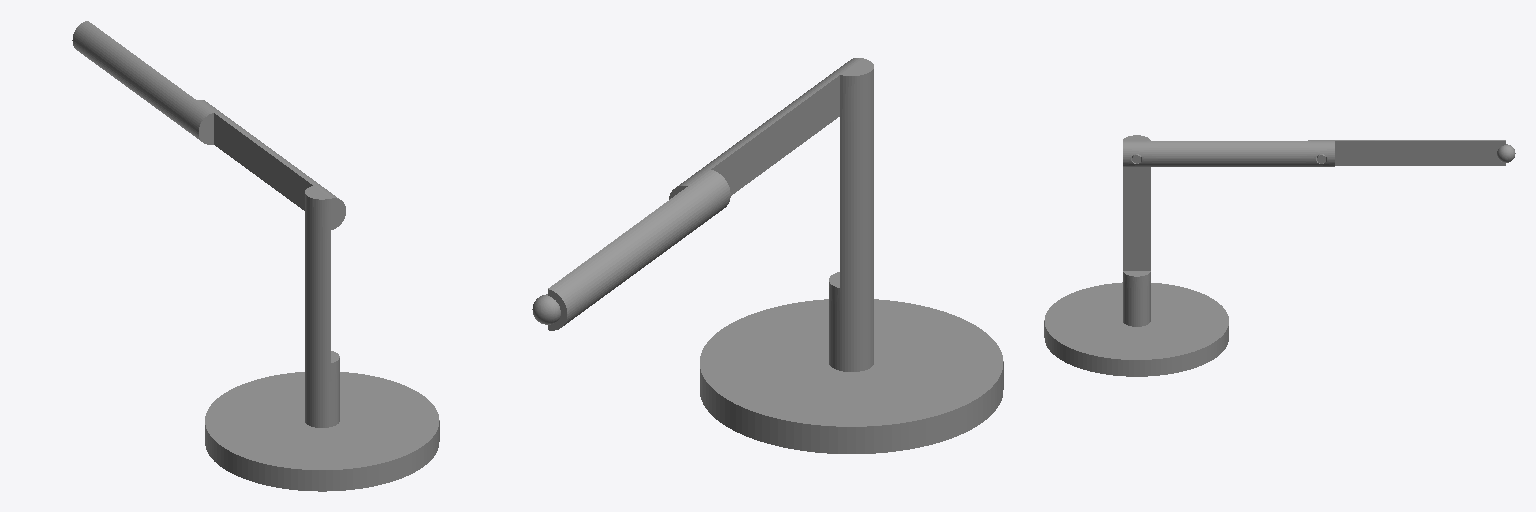
The robot description file, URDF, robot "moveit_sample":
<?xml version="1.0" ?>
<robot name="moveit_sample">
    <material name="silver_default">
        <color rgba="0.700 0.700 0.700 1.000" />
    </material>
    <material name="_">
        <color rgba="0.6274509803921569 0.6274509803921569 0.6274509803921569 1.0" />
    </material>
    <transmission name="rev1_tran">
        <type>transmission_interface/SimpleTransmission</type>
        <joint name="rev1">
            <hardwareInterface>hardware_interface/EffortJointInterface</hardwareInterface>
        </joint>
        <actuator name="rev1_actr">
            <hardwareInterface>hardware_interface/EffortJointInterface</hardwareInterface>
            <mechanicalReduction>1</mechanicalReduction>
        </actuator>
    </transmission>
    <transmission name="rev2_tran">
        <type>transmission_interface/SimpleTransmission</type>
        <joint name="rev2">
            <hardwareInterface>hardware_interface/EffortJointInterface</hardwareInterface>
        </joint>
        <actuator name="rev2_actr">
            <hardwareInterface>hardware_interface/EffortJointInterface</hardwareInterface>
            <mechanicalReduction>1</mechanicalReduction>
        </actuator>
    </transmission>
    <transmission name="rev3_tran">
        <type>transmission_interface/SimpleTransmission</type>
        <joint name="rev3">
            <hardwareInterface>hardware_interface/EffortJointInterface</hardwareInterface>
        </joint>
        <actuator name="rev3_actr">
            <hardwareInterface>hardware_interface/EffortJointInterface</hardwareInterface>
            <mechanicalReduction>1</mechanicalReduction>
        </actuator>
    </transmission>
    <transmission name="d_rev1_tran">
        <type>transmission_interface/SimpleTransmission</type>
        <joint name="d_rev1">
            <hardwareInterface>hardware_interface/EffortJointInterface</hardwareInterface>
        </joint>
        <actuator name="d_rev1_actr">
            <hardwareInterface>hardware_interface/EffortJointInterface</hardwareInterface>
            <mechanicalReduction>1</mechanicalReduction>
        </actuator>
    </transmission>
    <transmission name="d_rev2_tran">
        <type>transmission_interface/SimpleTransmission</type>
        <joint name="d_rev2">
            <hardwareInterface>hardware_interface/EffortJointInterface</hardwareInterface>
        </joint>
        <actuator name="d_rev2_actr">
            <hardwareInterface>hardware_interface/EffortJointInterface</hardwareInterface>
            <mechanicalReduction>1</mechanicalReduction>
        </actuator>
    </transmission>
    <transmission name="d_rev3_tran">
        <type>transmission_interface/SimpleTransmission</type>
        <joint name="d_rev3">
            <hardwareInterface>hardware_interface/EffortJointInterface</hardwareInterface>
        </joint>
        <actuator name="d_rev3_actr">
            <hardwareInterface>hardware_interface/EffortJointInterface</hardwareInterface>
            <mechanicalReduction>1</mechanicalReduction>
        </actuator>
    </transmission>
    <gazebo>
        <plugin filename="libgazebo_ros_control.so" name="control" />
        <plugin name="gazebo_ros_control">
            <robotNamespace>/</robotNamespace>
        </plugin>
    </gazebo>
    <gazebo reference="base_link">
        <material>Gazebo/Silver</material>
        <mu1>0.2</mu1>
        <mu2>0.2</mu2>
        <selfCollide>true</selfCollide>
        <gravity>true</gravity>
    </gazebo>
    <gazebo reference="part1_1">
        <material>Gazebo/Silver</material>
        <mu1>0.2</mu1>
        <mu2>0.2</mu2>
        <selfCollide>true</selfCollide>
    </gazebo>
    <gazebo reference="part2_1">
        <material>Gazebo/Silver</material>
        <mu1>0.2</mu1>
        <mu2>0.2</mu2>
        <selfCollide>true</selfCollide>
    </gazebo>
    <gazebo reference="part3_1">
        <material>Gazebo/Silver</material>
        <mu1>0.2</mu1>
        <mu2>0.2</mu2>
        <selfCollide>true</selfCollide>
    </gazebo>
    <gazebo reference="d_part1_1">
        <material>Gazebo/Silver</material>
        <mu1>0.2</mu1>
        <mu2>0.2</mu2>
        <selfCollide>true</selfCollide>
    </gazebo>
    <gazebo reference="d_part2_1">
        <material>Gazebo/Silver</material>
        <mu1>0.2</mu1>
        <mu2>0.2</mu2>
        <selfCollide>true</selfCollide>
    </gazebo>
    <gazebo reference="d_part3_1">
        <material>Gazebo/Silver</material>
        <mu1>0.2</mu1>
        <mu2>0.2</mu2>
        <selfCollide>true</selfCollide>
    </gazebo>
    <link name="dummy" />
    <link name="base_link">
        <inertial>
            <origin rpy="0 0 0" xyz="-7.237528875152536e-18 -1.447505775030507e-17 0.005" />
            <mass value="0.6165375582669969" />
            <inertia ixx="0.00039" ixy="-0.0" ixz="0.0" iyy="0.00039" iyz="-0.0" izz="0.000771" />
        </inertial>
        <visual>
            <origin rpy="0 0 0" xyz="0 0 0" />
            <geometry>
                <mesh filename="package://moveit_sample_description/meshes/base_link.stl" scale="0.001 0.001 0.001" />
            </geometry>
            <material name="_" />
        </visual>
        <collision>
            <origin rpy="0 0 0" xyz="0 0 0" />
            <geometry>
                <mesh filename="package://moveit_sample_description/meshes/base_link.stl" scale="0.001 0.001 0.001" />
            </geometry>
        </collision>
    </link>
    <link name="part1_1">
        <inertial>
            <origin rpy="0 0 0" xyz="-0.0017277137374306876 6.723447632535409e-13 0.04595059880172599" />
            <mass value="0.09652666146617676" />
            <inertia ixx="0.000103" ixy="-0.0" ixz="4e-06" iyy="0.000102" iyz="-0.0" izz="2e-06" />
        </inertial>
        <visual>
            <origin rpy="0 0 0" xyz="-0.0 -0.0 -0.01" />
            <geometry>
                <mesh filename="package://moveit_sample_description/meshes/part1_1.stl" scale="0.001 0.001 0.001" />
            </geometry>
            <material name="_" />
        </visual>
        <collision>
            <origin rpy="0 0 0" xyz="-0.0 -0.0 -0.01" />
            <geometry>
                <mesh filename="package://moveit_sample_description/meshes/part1_1.stl" scale="0.001 0.001 0.001" />
            </geometry>
        </collision>
    </link>
    <link name="part2_1">
        <inertial>
            <origin rpy="0 0 0" xyz="0.0031621405528323497 0.050000000055879366 -5.586570095417187e-11" />
            <mass value="0.07650347985448655" />
            <inertia ixx="8.1e-05" ixy="-0.0" ixz="-0.0" iyy="1e-06" iyz="-0.0" izz="8e-05" />
        </inertial>
        <visual>
            <origin rpy="0 0 0" xyz="-0.0 -0.0 -0.11" />
            <geometry>
                <mesh filename="package://moveit_sample_description/meshes/part2_1.stl" scale="0.001 0.001 0.001" />
            </geometry>
            <material name="_" />
        </visual>
        <collision>
            <origin rpy="0 0 0" xyz="-0.0 -0.0 -0.11" />
            <geometry>
                <mesh filename="package://moveit_sample_description/meshes/part2_1.stl" scale="0.001 0.001 0.001" />
            </geometry>
        </collision>
    </link>
    <link name="part3_1">
        <inertial>
            <origin rpy="0 0 0" xyz="-0.00307725002425259 0.04554389318565036 -5.588342288920245e-11" />
            <mass value="0.0757185188746656" />
            <inertia ixx="7.5e-05" ixy="0.0" ixz="0.0" iyy="1e-06" iyz="-0.0" izz="7.5e-05" />
        </inertial>
        <visual>
            <origin rpy="0 0 0" xyz="0.0 -0.1 -0.11" />
            <geometry>
                <mesh filename="package://moveit_sample_description/meshes/part3_1.stl" scale="0.001 0.001 0.001" />
            </geometry>
            <material name="_" />
        </visual>
        <collision>
            <origin rpy="0 0 0" xyz="0.0 -0.1 -0.11" />
            <geometry>
                <mesh filename="package://moveit_sample_description/meshes/part3_1.stl" scale="0.001 0.001 0.001" />
            </geometry>
        </collision>
    </link>
    <link name="d_part1_1">
        <inertial>
            <origin rpy="0 0 0" xyz="-2.10969707193732e-33 5.587930118622353e-11 -5.5879384452950376e-11" />
            <mass value="0.0005137812985558307" />
            <inertia ixx="0.0" ixy="0.0" ixz="-0.0" iyy="0.0" iyz="0.0" izz="0.0" />
        </inertial>
        <visual>
            <origin rpy="0 0 0" xyz="0.0 -0.2 -0.11" />
            <geometry>
                <mesh filename="package://moveit_sample_description/meshes/d_part1_1.stl" scale="0.001 0.001 0.001" />
            </geometry>
            <material name="_" />
        </visual>
        <collision>
            <origin rpy="0 0 0" xyz="0.0 -0.2 -0.11" />
            <geometry>
                <mesh filename="package://moveit_sample_description/meshes/d_part1_1.stl" scale="0.001 0.001 0.001" />
            </geometry>
        </collision>
    </link>
    <link name="d_part2_1">
        <inertial>
            <origin rpy="0 0 0" xyz="-2.10969707193732e-33 5.587930118622353e-11 -5.5879384452950376e-11" />
            <mass value="0.004110250388446646" />
            <inertia ixx="0.0" ixy="0.0" ixz="-0.0" iyy="0.0" iyz="0.0" izz="0.0" />
        </inertial>
        <visual>
            <origin rpy="0 0 0" xyz="0.0 -0.2 -0.11" />
            <geometry>
                <mesh filename="package://moveit_sample_description/meshes/d_part2_1.stl" scale="0.001 0.001 0.001" />
            </geometry>
            <material name="_" />
        </visual>
        <collision>
            <origin rpy="0 0 0" xyz="0.0 -0.2 -0.11" />
            <geometry>
                <mesh filename="package://moveit_sample_description/meshes/d_part2_1.stl" scale="0.001 0.001 0.001" />
            </geometry>
        </collision>
    </link>
    <link name="d_part3_1">
        <inertial>
            <origin rpy="0 0 0" xyz="-2.10969707193732e-33 5.587930118622353e-11 -5.5879384452950376e-11" />
            <mass value="0.004110250388446646" />
            <inertia ixx="0.0" ixy="0.0" ixz="-0.0" iyy="0.0" iyz="0.0" izz="0.0" />
        </inertial>
        <visual>
            <origin rpy="0 0 0" xyz="0.0 -0.2 -0.11" />
            <geometry>
                <mesh filename="package://moveit_sample_description/meshes/d_part3_1.stl" scale="0.001 0.001 0.001" />
            </geometry>
            <material name="_" />
        </visual>
        <collision>
            <origin rpy="0 0 0" xyz="0.0 -0.2 -0.11" />
            <geometry>
                <mesh filename="package://moveit_sample_description/meshes/d_part3_1.stl" scale="0.001 0.001 0.001" />
            </geometry>
        </collision>
    </link>
    <joint name="dummy_joint" type="fixed">
        <parent link="dummy" />
        <child link="base_link" />
    </joint>
    <joint name="rev1" type="continuous">
        <origin rpy="0 0 0" xyz="0.0 0.0 0.01" />
        <parent link="base_link" />
        <child link="part1_1" />
        <axis xyz="0.0 0.0 1.0" />
    </joint>
    <joint name="rev2" type="continuous">
        <origin rpy="0 0 0" xyz="0.0 0.0 0.1" />
        <parent link="part1_1" />
        <child link="part2_1" />
        <axis xyz="-1.0 0.0 0.0" />
    </joint>
    <joint name="rev3" type="continuous">
        <origin rpy="0 0 0" xyz="-0.0 0.1 0.0" />
        <parent link="part2_1" />
        <child link="part3_1" />
        <axis xyz="1.0 -0.0 0.0" />
    </joint>
    <joint name="d_rev1" type="continuous">
        <origin rpy="0 0 0" xyz="0.0 0.1 0.0" />
        <parent link="part3_1" />
        <child link="d_part1_1" />
        <axis xyz="1.0 0.0 0.0" />
    </joint>
    <joint name="d_rev2" type="continuous">
        <origin rpy="0 0 0" xyz="0.0 0.0 0.0" />
        <parent link="d_part1_1" />
        <child link="d_part2_1" />
        <axis xyz="-0.0 1.0 -0.0" />
    </joint>
    <joint name="d_rev3" type="continuous">
        <origin rpy="0 0 0" xyz="0.0 0.0 0.0" />
        <parent link="d_part2_1" />
        <child link="d_part3_1" />
        <axis xyz="-0.0 0.0 1.0" />
    </joint>
</robot>

--- What the picture shows (computed from the rendered views, not written in the file) ---
Views: 3 orthographic renders of the robot side by side, from view 1: azimuth 30°, elevation 25°; view 2: azimuth 150°, elevation 25°; view 3: azimuth 270°, elevation 25°.
Robot: moveit_sample — 8 links, 7 joints (6 continuous, 1 fixed); root link dummy; default pose: all joints at 0.
Visible links, largest first — view 1: base_link, part1_1, part3_1, part2_1; view 2: base_link, part1_1, part3_1, part2_1; view 3: base_link, part2_1, part1_1, part3_1.
Boxes of the visible links, x1,y1,x2,y2 form: base_link: (205, 372, 439, 491); part1_1: (305, 186, 339, 427); part3_1: (72, 21, 213, 144); part2_1: (197, 100, 345, 229); base_link: (700, 299, 1003, 453); part1_1: (829, 58, 873, 371); part3_1: (548, 170, 730, 330); part2_1: (669, 58, 862, 199); base_link: (1044, 282, 1228, 376); part2_1: (1123, 141, 1334, 166); part1_1: (1123, 135, 1150, 326); part3_1: (1308, 140, 1505, 165).
Bounding box of the posed robot: 0.1 × 0.255 × 0.1175 m (x, y, z).
Meshes: 7 distinct files referenced, 7 mesh visuals loaded (7 binary STL).